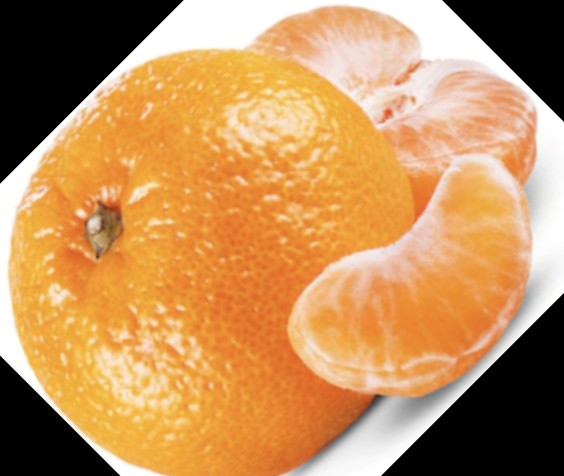fresh_orange: (6, 49, 415, 476)
